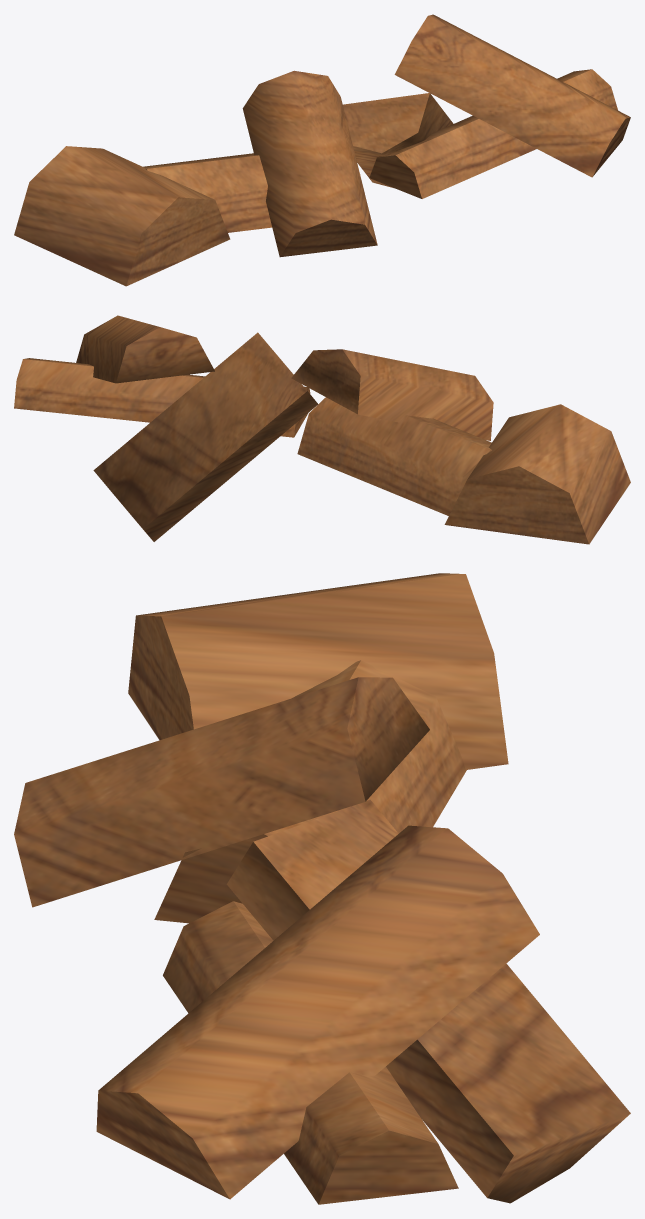
Rendered from WoodChunks.glb.
3 renders of one model, top to bottom at view 1: azimuth 30°, elevation 25°; view 2: azimuth 150°, elevation 25°; view 3: azimuth 270°, elevation 25°, orthographic. The views are drawn at different scales.
Parts seen in each view (by area): view 1: WoodChunks; view 2: WoodChunks; view 3: WoodChunks.
Part boxes in pixels (left/top/right/bottom): WoodChunks: left=14, top=14, right=630, bottom=286; WoodChunks: left=14, top=315, right=630, bottom=544; WoodChunks: left=14, top=573, right=630, bottom=1204.
Bounding box in the file's own units: 2.76 × 0.8629 × 1.29.
1 material, 1 textured.
